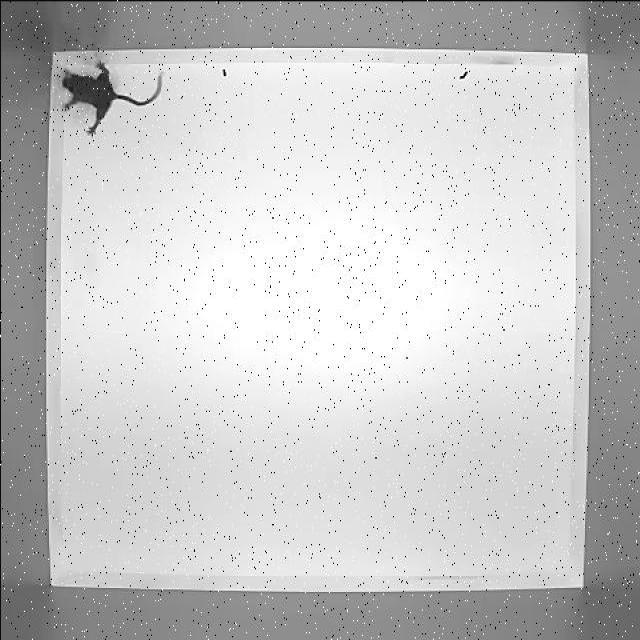rat: (49, 46, 181, 142)
